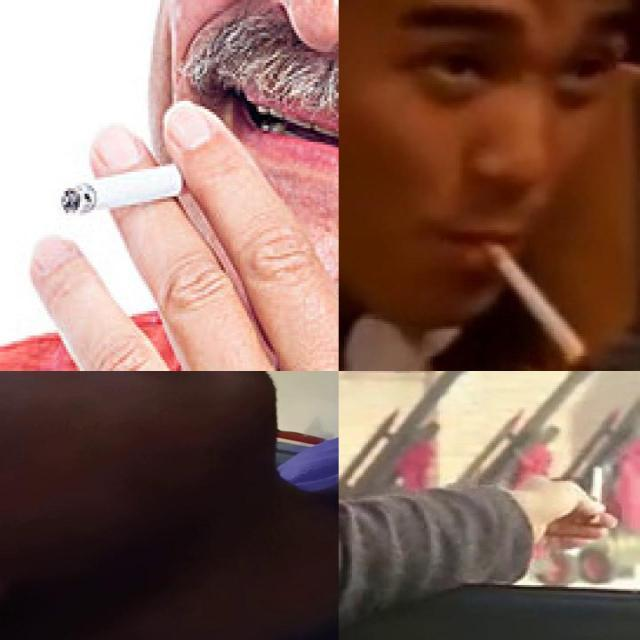smoking: (479, 237, 589, 364), (62, 150, 220, 216), (588, 462, 606, 502)
